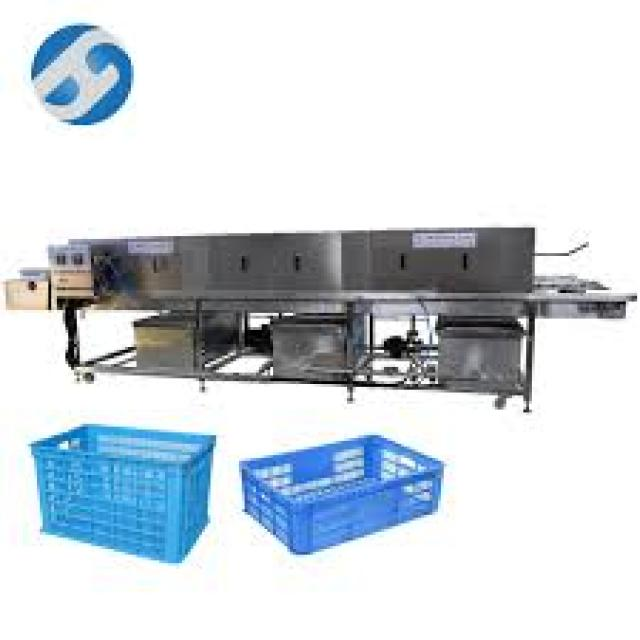basket: (22, 422, 215, 567)
